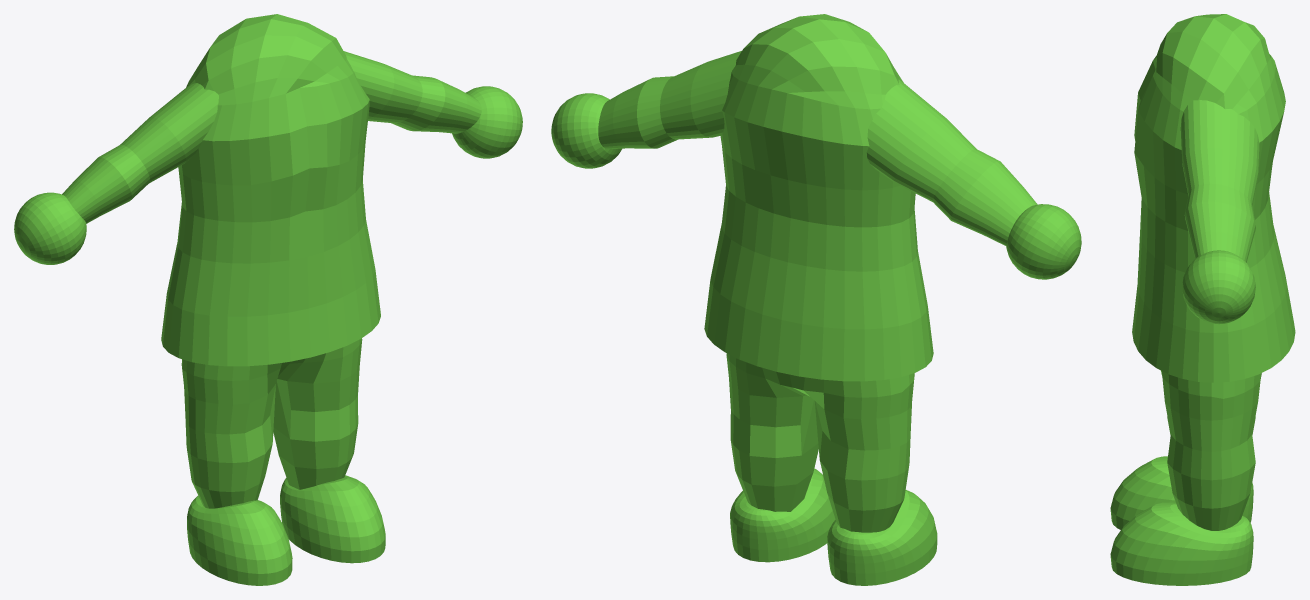
File: Body.fbx
The picture shows the model from 3 angles, left to right: view 1: azimuth 30°, elevation 25°; view 2: azimuth 150°, elevation 25°; view 3: azimuth 270°, elevation 25°; orthographic projection. The views are drawn at different scales.
Parts seen in each view (by area): view 1: Sphere.002; view 2: Sphere.002; view 3: Sphere.002.
Boxes of the visible parts, left/top/right/bottom form: Sphere.002: left=14, top=14, right=522, bottom=585; Sphere.002: left=551, top=14, right=1081, bottom=585; Sphere.002: left=1110, top=14, right=1295, bottom=585.
Size of the model in its own units: 487 by 483 by 154.
